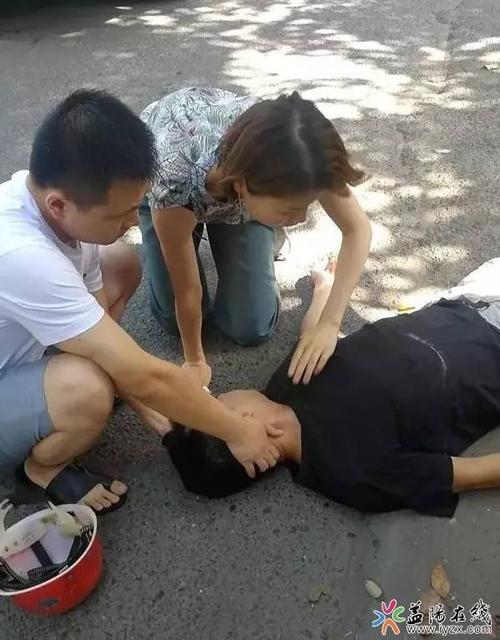Fall-Detected: (175, 221, 490, 544)
